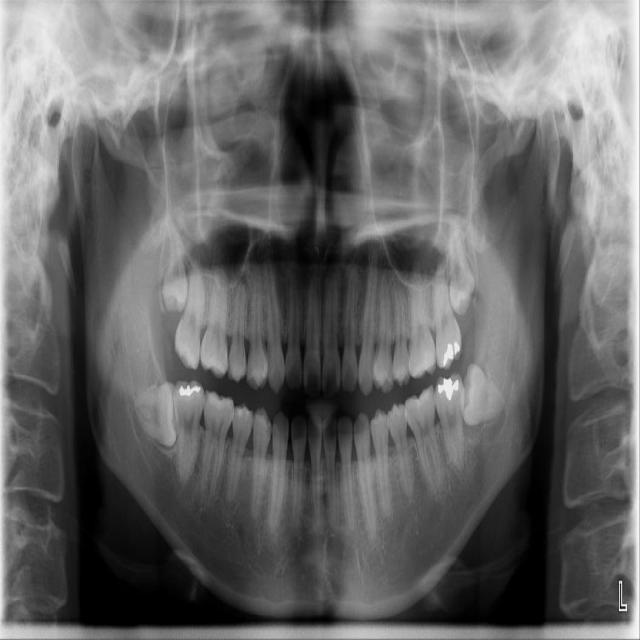Filling: (437, 376, 459, 400), (178, 384, 201, 396), (444, 344, 454, 366), (455, 342, 461, 355)
impacted tooth: (446, 217, 478, 313), (129, 383, 175, 443), (463, 364, 506, 424), (161, 214, 186, 309)
